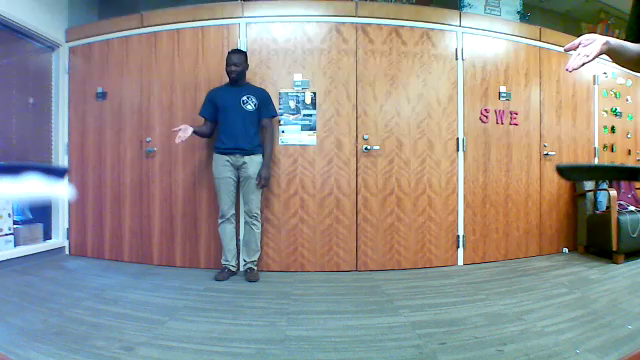land: (556, 26, 624, 76), (168, 120, 196, 149)
